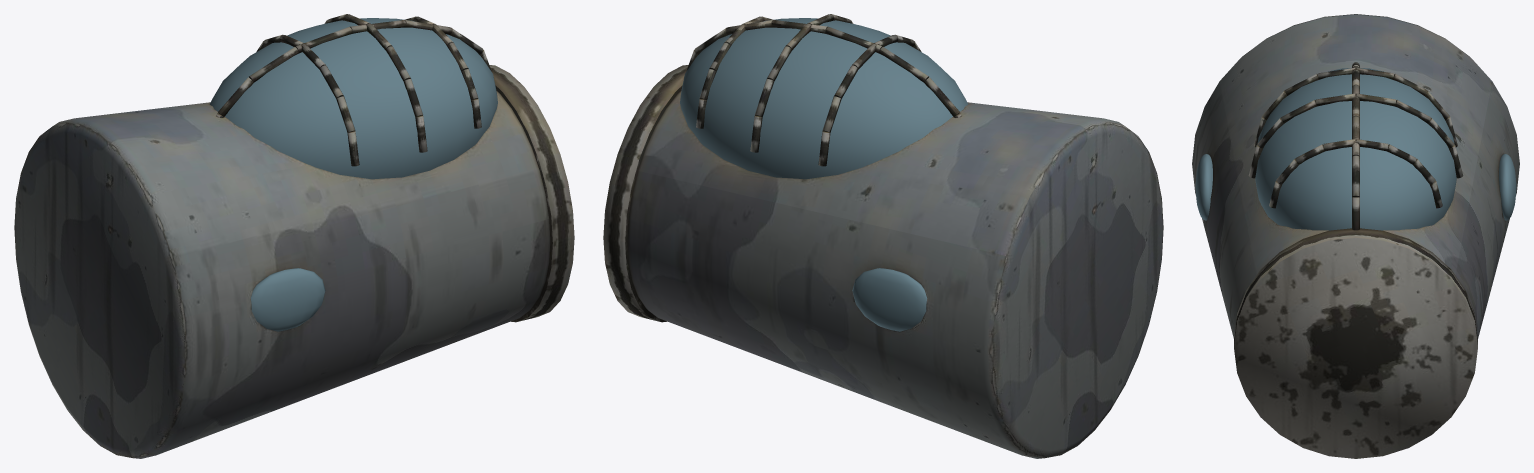
The model's file is turret_kit_tail_cabin_sea_fog.glb.
The picture shows the model from 3 angles, left to right: view 1: azimuth 30°, elevation 25°; view 2: azimuth 150°, elevation 25°; view 3: azimuth 270°, elevation 25°; orthographic projection. The views are drawn at different scales.
Parts seen in each view (by area): view 1: turret_tail_cabin; view 2: turret_tail_cabin; view 3: turret_tail_cabin.
Boxes of the visible parts, left/top/right/bottom form: turret_tail_cabin: left=14, top=14, right=574, bottom=458; turret_tail_cabin: left=603, top=14, right=1163, bottom=458; turret_tail_cabin: left=1192, top=14, right=1519, bottom=458.
Bounding box in the file's own units: 1.14 × 0.9506 × 0.8335.
Materials: 2 (1 with a texture image).
